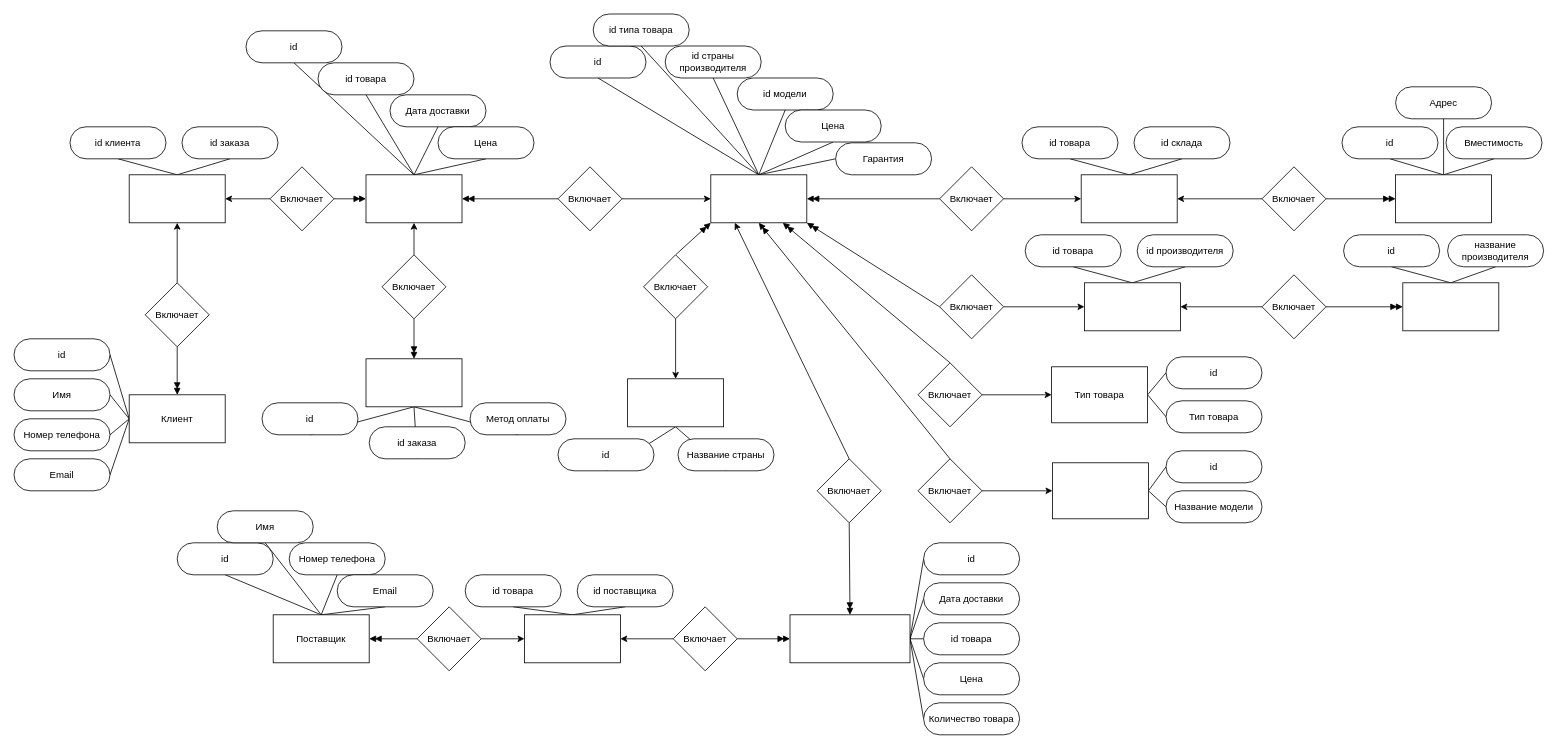
Some shapes in this 1558 by 749 pixel diagram are drawn without their labels. Here are the shapes that lost their labels. From the top down, the centre of each, then its label:
At (x=176, y=198): "Журнал заказов".
At (x=413, y=198): "Заказ".
At (x=758, y=198): "Товар".
At (x=1128, y=198): "Журнал товаров".
At (x=1443, y=198): "Склад".
At (x=1132, y=306): "Журнал производителей".
At (x=1450, y=306): "Производитель".
At (x=413, y=382): "Оплата".
At (x=675, y=402): "Страна производитель".
At (x=1100, y=490): "Модель".
At (x=572, y=638): "Журнал доставок".
At (x=849, y=638): "Доставка".
